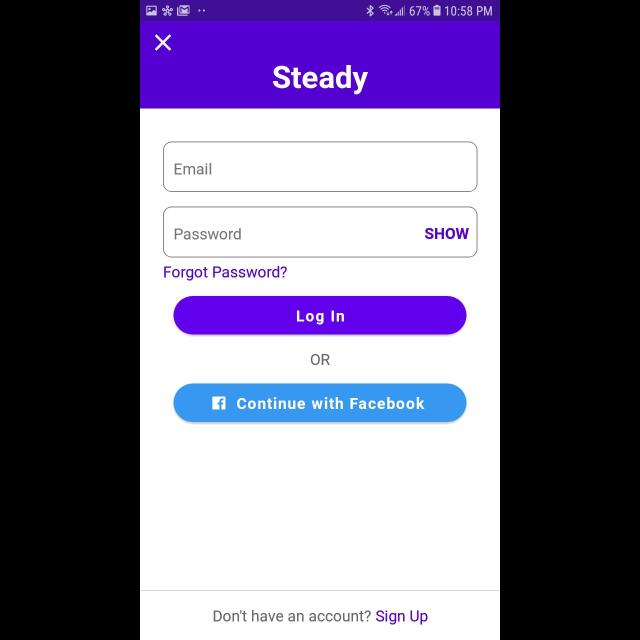icon: (156, 34, 172, 51)
input: (164, 206, 478, 258), (163, 142, 477, 192)
text: (214, 610, 428, 626), (274, 65, 368, 95), (165, 266, 288, 282), (175, 228, 241, 240), (425, 228, 469, 240), (175, 163, 212, 174), (312, 354, 331, 366)
textbutton: (174, 296, 466, 336), (174, 383, 466, 422)
uppertaskbar: (140, 1, 500, 22)
